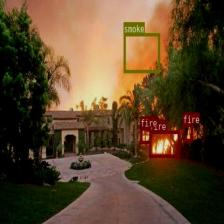fire: (149, 130, 179, 156), (140, 127, 151, 143), (182, 124, 192, 141)
smoke: (123, 32, 159, 72)
